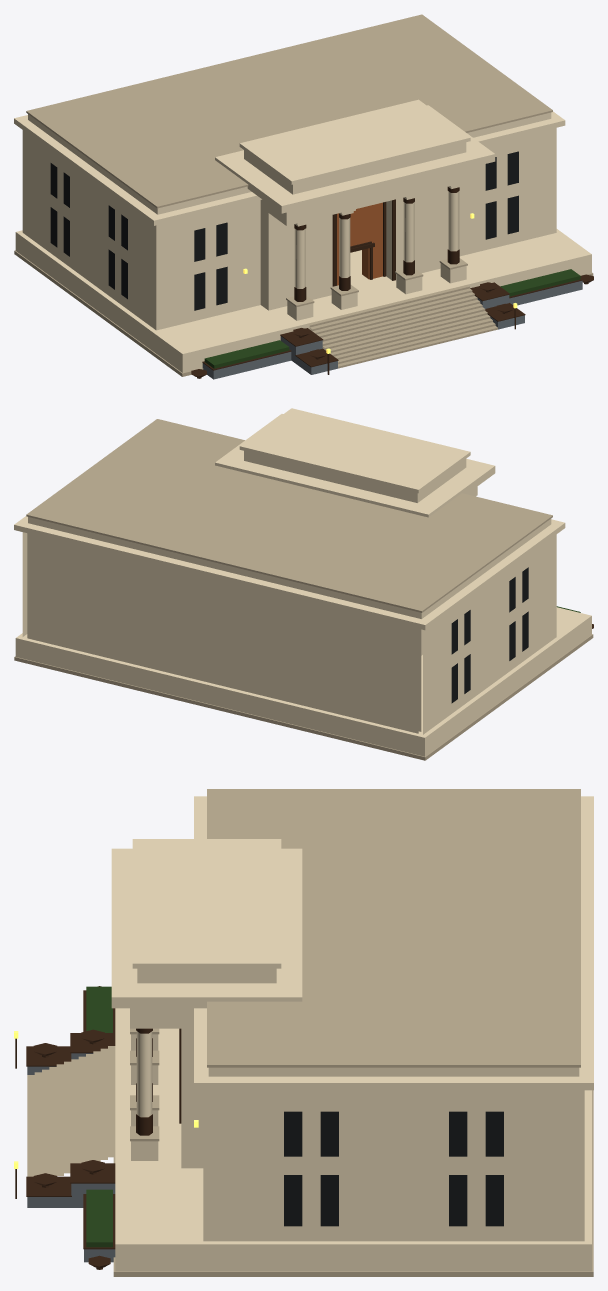
File: generated.civic_hall.gltf
3 renders of one model, top to bottom at view 1: azimuth 30°, elevation 25°; view 2: azimuth 150°, elevation 25°; view 3: azimuth 270°, elevation 25°, orthographic. The views are drawn at different scales.
Parts seen in each view (by area): view 1: civic_hall; view 2: civic_hall; view 3: civic_hall.
Part boxes in pixels (x1,y1,x2,y2): civic_hall: (14,14,593,379); civic_hall: (14,408,593,760); civic_hall: (14,789,593,1276).
Bounding box in the file's own units: 37 × 13.97 × 31.62.
